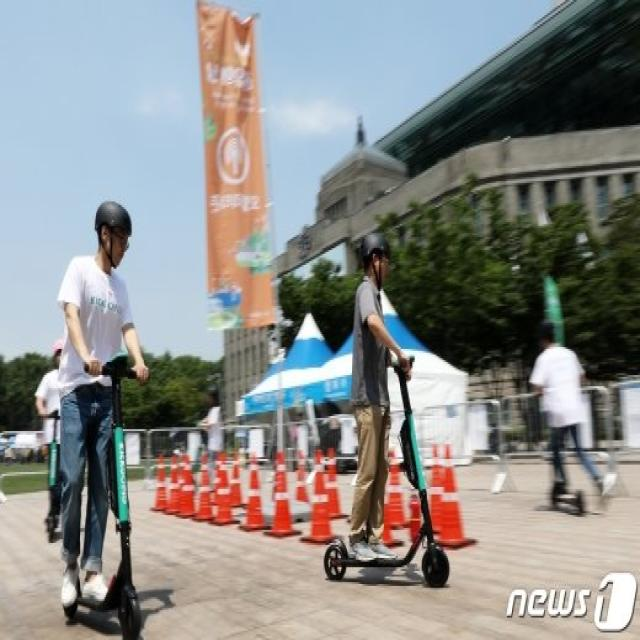helmet: (48, 199, 172, 640), (314, 226, 450, 589)
